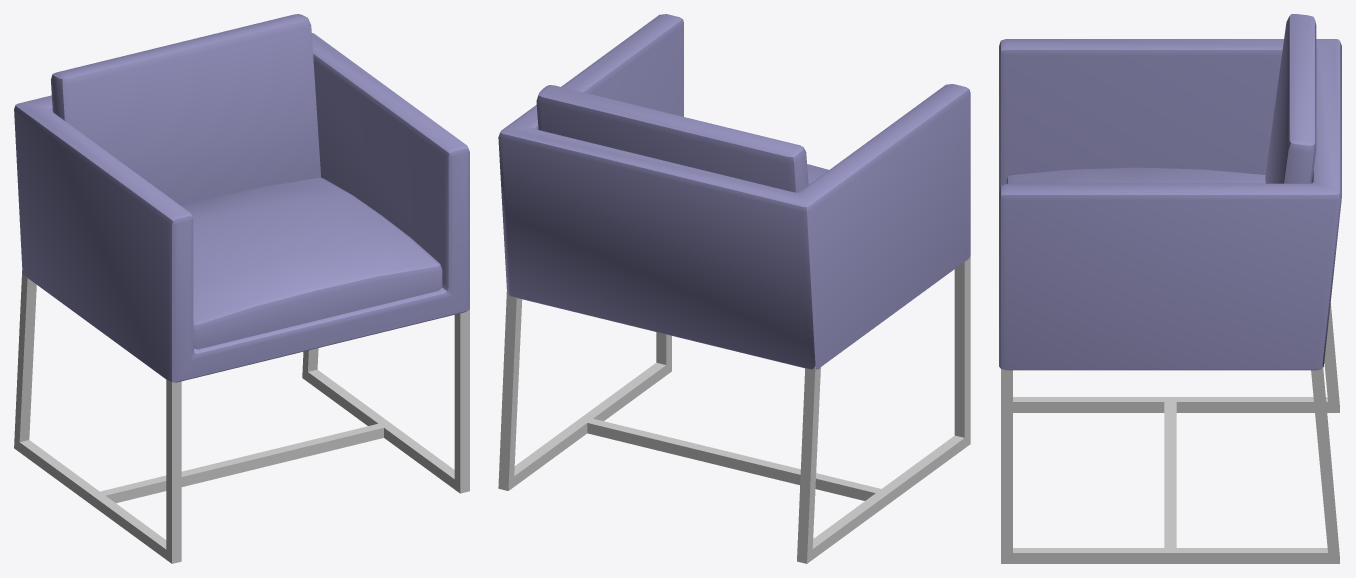
Rendered from MZACH02.FBX.
3 views of the same model, side by side, from view 1: azimuth 30°, elevation 25°; view 2: azimuth 150°, elevation 25°; view 3: azimuth 270°, elevation 25° (orthographic). The views are drawn at different scales.
Visible parts, largest first — view 1: MZACH02; view 2: MZACH02; view 3: MZACH02.
Part boxes in pixels (x1,y1,x2,y2): MZACH02: (14, 14, 469, 563); MZACH02: (498, 14, 970, 563); MZACH02: (999, 14, 1341, 563).
Bounding box in the file's own units: 62 × 57 × 75.
